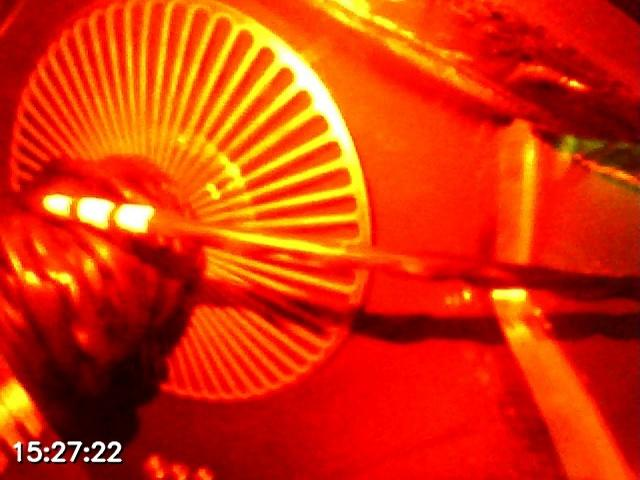white-dots: (42, 193, 156, 235)
